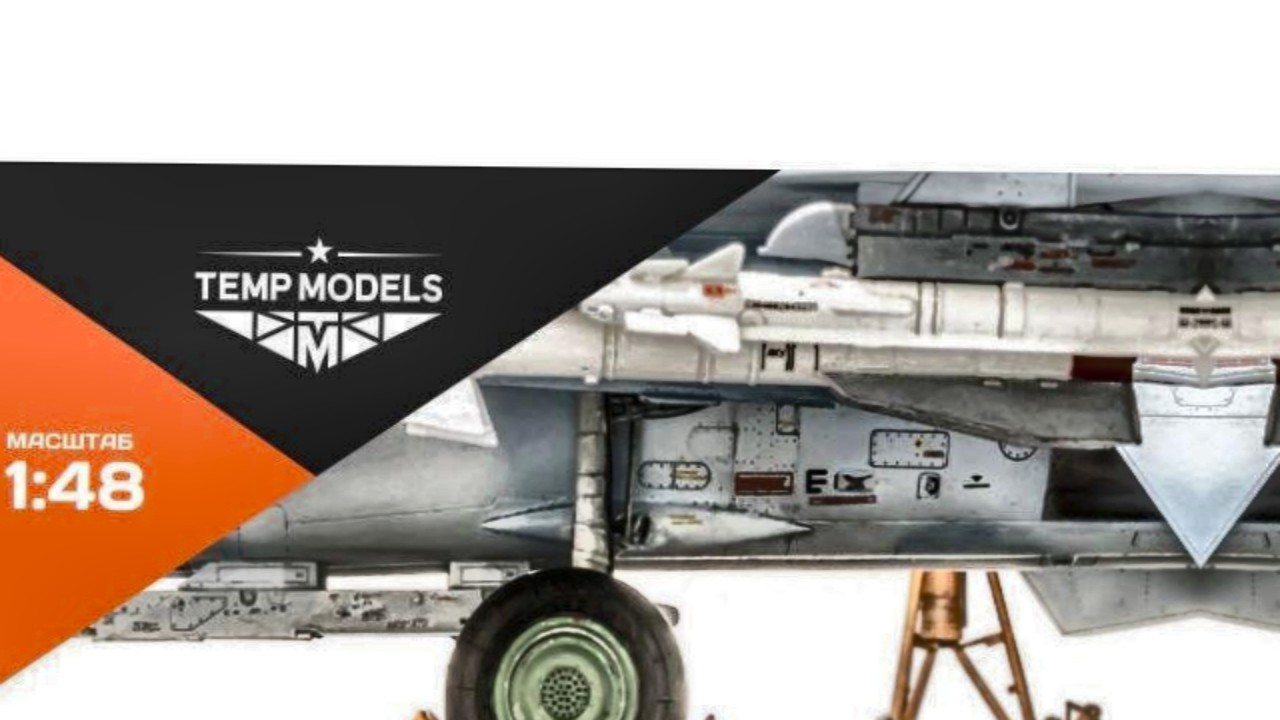wheel: (440, 560, 689, 720)
